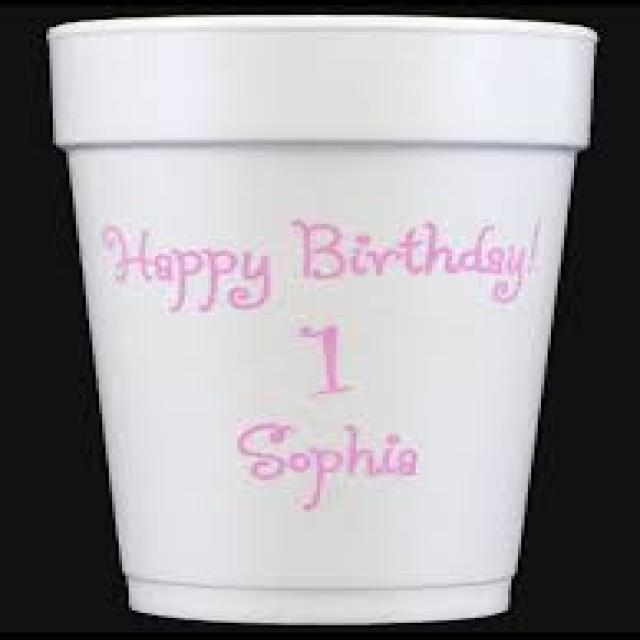cup: (36, 12, 604, 620)
